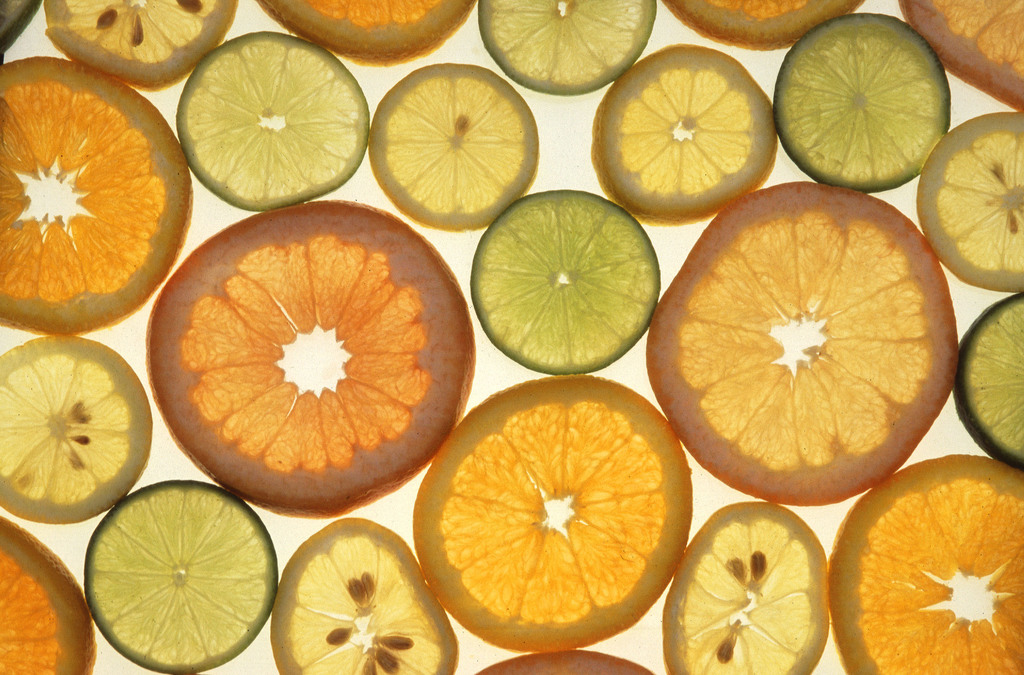Ripe: (149, 201, 479, 512), (645, 186, 951, 500), (403, 400, 686, 656), (838, 466, 1023, 674), (966, 304, 1023, 466)
